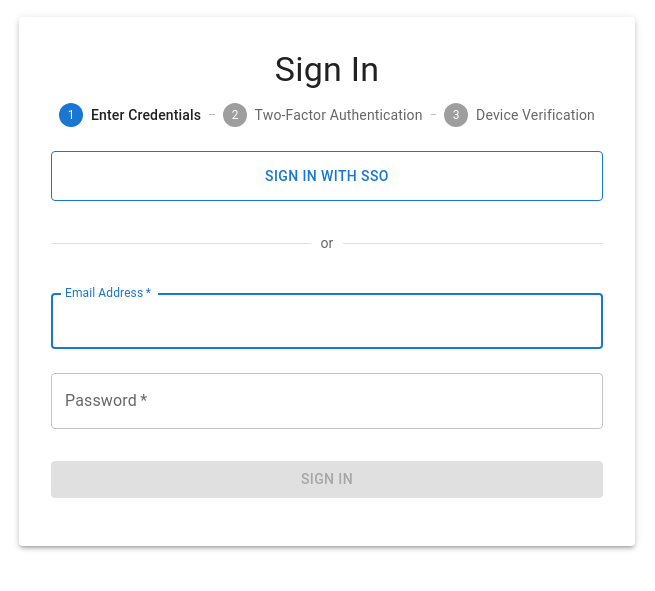
Test: SSO Integration Tests › SSO Login Flow › shows loading state during SSO login
Click the button with aria-label "sign in with single sign-on": (327, 176) [51,151,603,201]
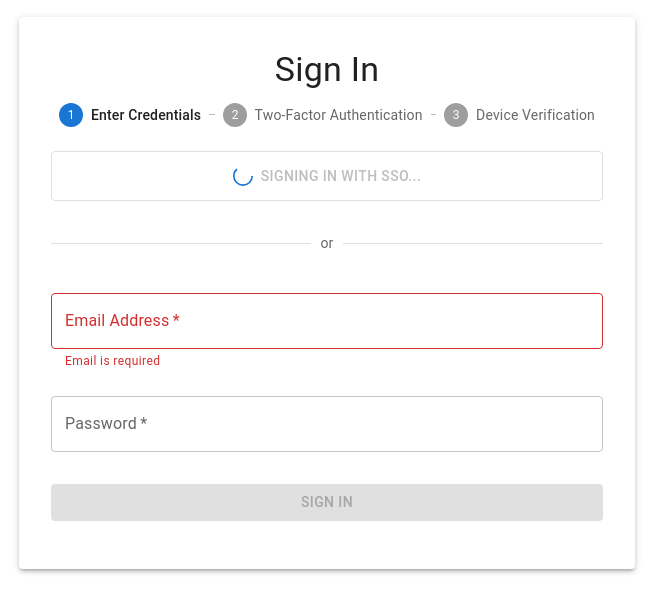
Now the text "Signing in with SSO..." is shown, box [233,164,421,188]
Now the button named "sign in with single sign-on" is disabled, box [51,151,603,201]
